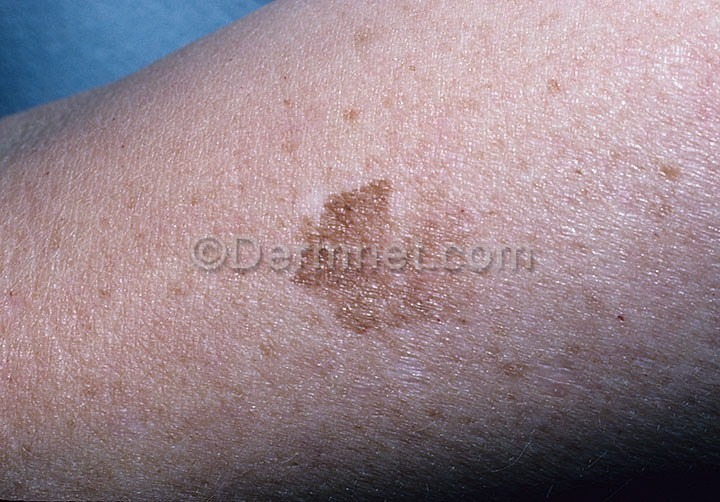Melasma: (279, 272, 501, 358), (291, 166, 487, 243)
